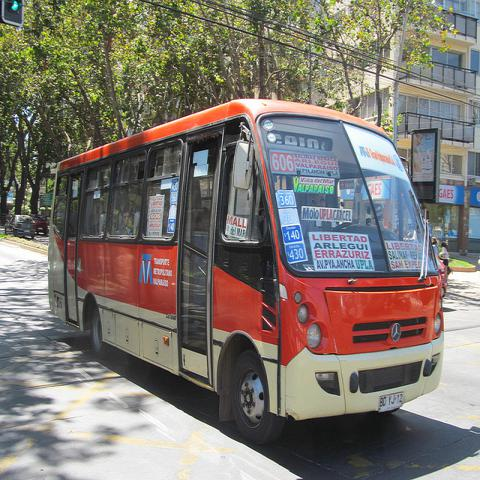bus: (46, 97, 444, 446)
car: (4, 215, 37, 239), (28, 214, 49, 236)
